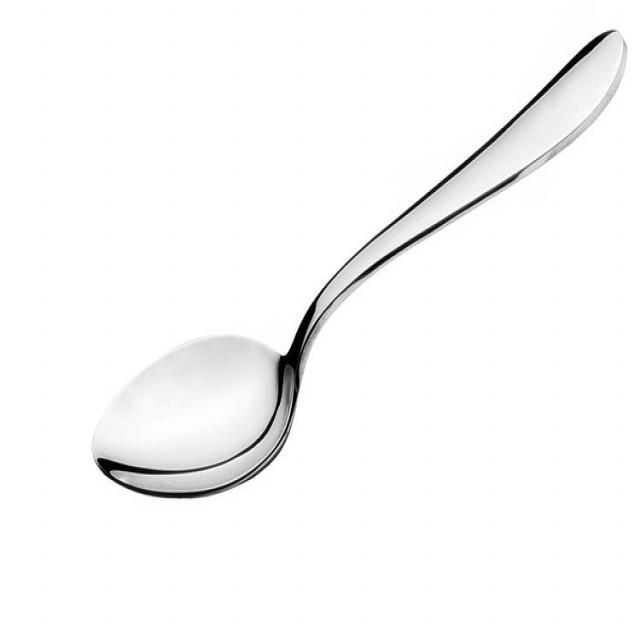spoon: (88, 36, 640, 517)
